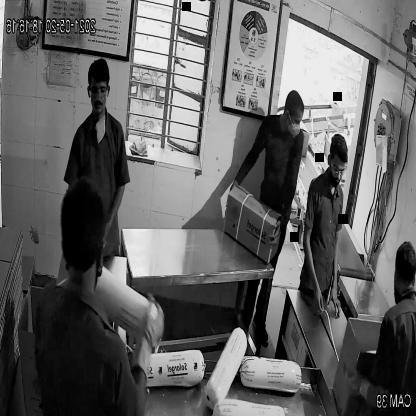goggles: (329, 158, 348, 177)
